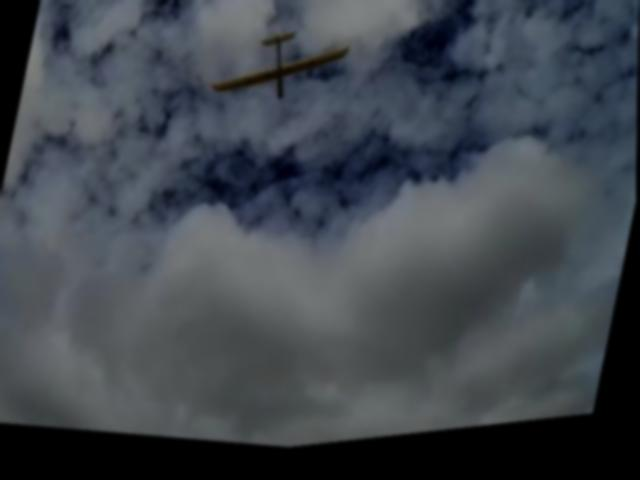uav: (201, 2, 361, 141)
